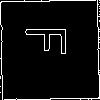F: (24, 24, 79, 57)
